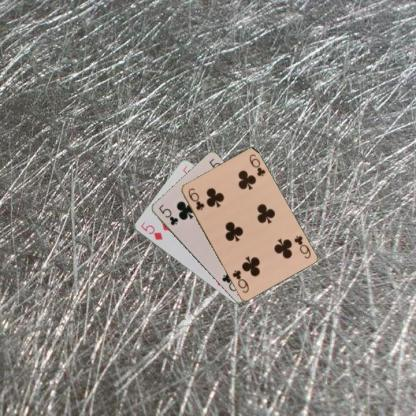5c: (156, 201, 179, 226)
5d: (138, 219, 164, 241)
6c: (291, 233, 312, 260), (186, 186, 205, 212)
